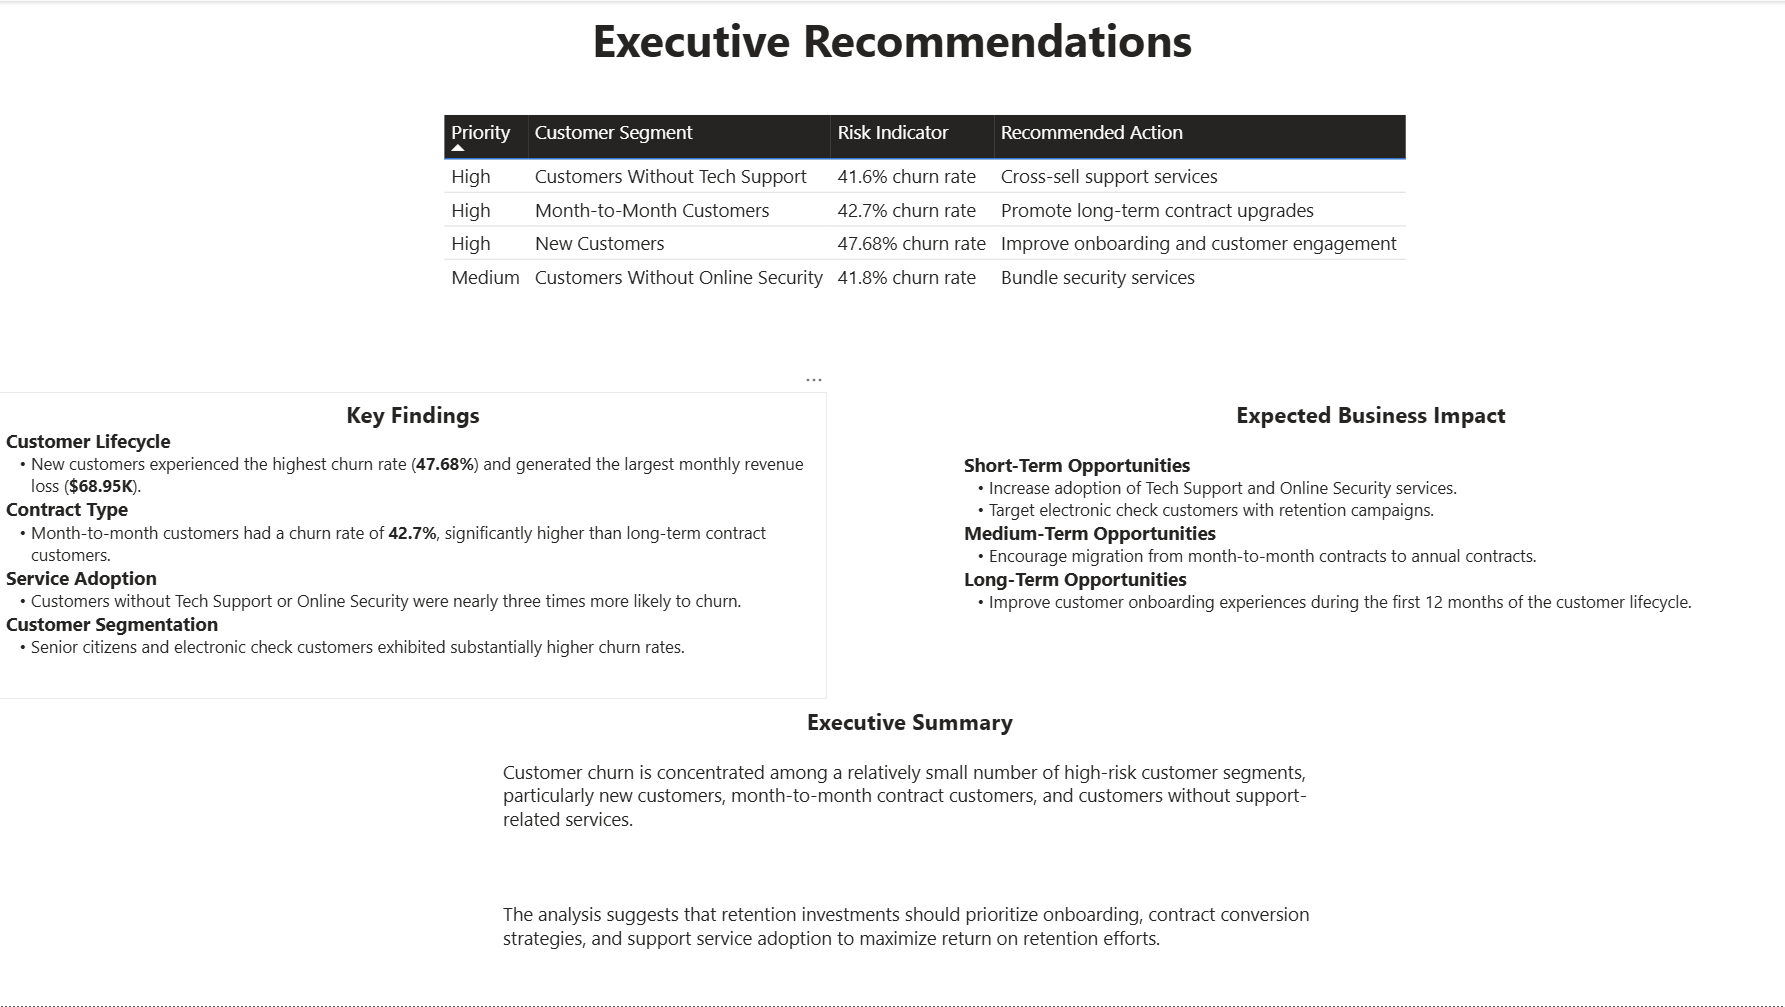

What the dashboard file says about the page in this screenshot:
{"tool":"powerbi","page":{"name":"Finding& Recommendations","canvas":[1280,720],"ordinal":3},"visuals":[{"type":"textbox","box":[0,280.2,593.4,220],"z":0},{"type":"tableEx","fields":{"Values":["TableRecomm.Priority","TableRecomm.Customer Segment","TableRecomm.Risk Indicator","TableRecomm.Recommended Action"]},"box":[313.2,76.7,707.4,159.8],"z":1},{"type":"textbox","box":[340.4,0,599.1,76.7],"z":2},{"type":"textbox","box":[356.2,500.2,593.4,220],"z":3},{"type":"textbox","box":[686.6,280.2,593.4,220],"z":4}]}

Visuals, with their boxes in screenshot pixels (x1, y1, x2, y2), scaled from the page's 1280x720 canvas onto the 1785x1007 screenshot:
textbox: 0 392 828 700
tableEx - TableRecomm.Priority x TableRecomm.Customer Segment: 437 107 1423 331
textbox: 475 0 1310 107
textbox: 497 700 1324 1006
textbox: 957 392 1784 700
